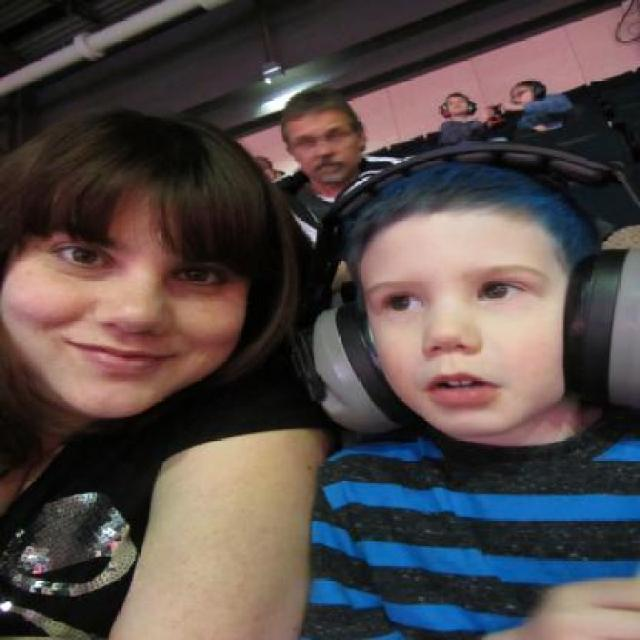earphone: (295, 154, 433, 468)
